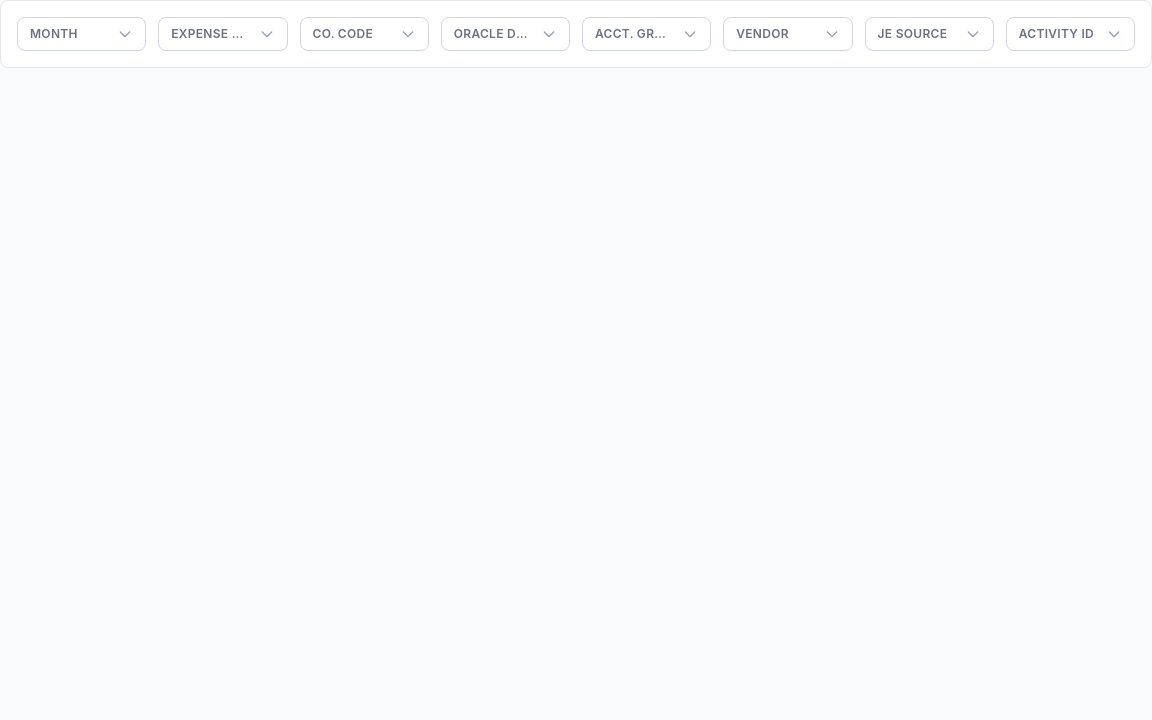
Test: FilterBar › closes dropdown when clicking outside
Click the button "Expense Type" at (223, 34), box [158, 17, 288, 51]
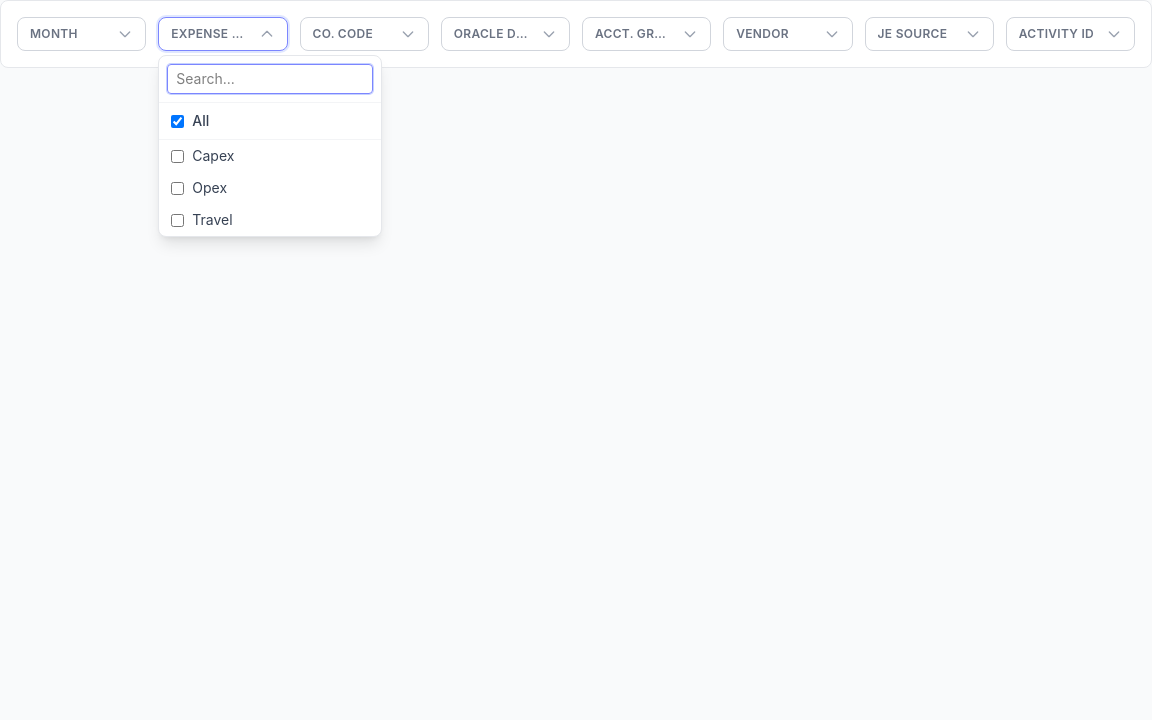
Check: the text "Capex" is shown, box [192, 146, 234, 166]
Click the element that starts with "Month" at (576, 360), box [0, 0, 1151, 719]
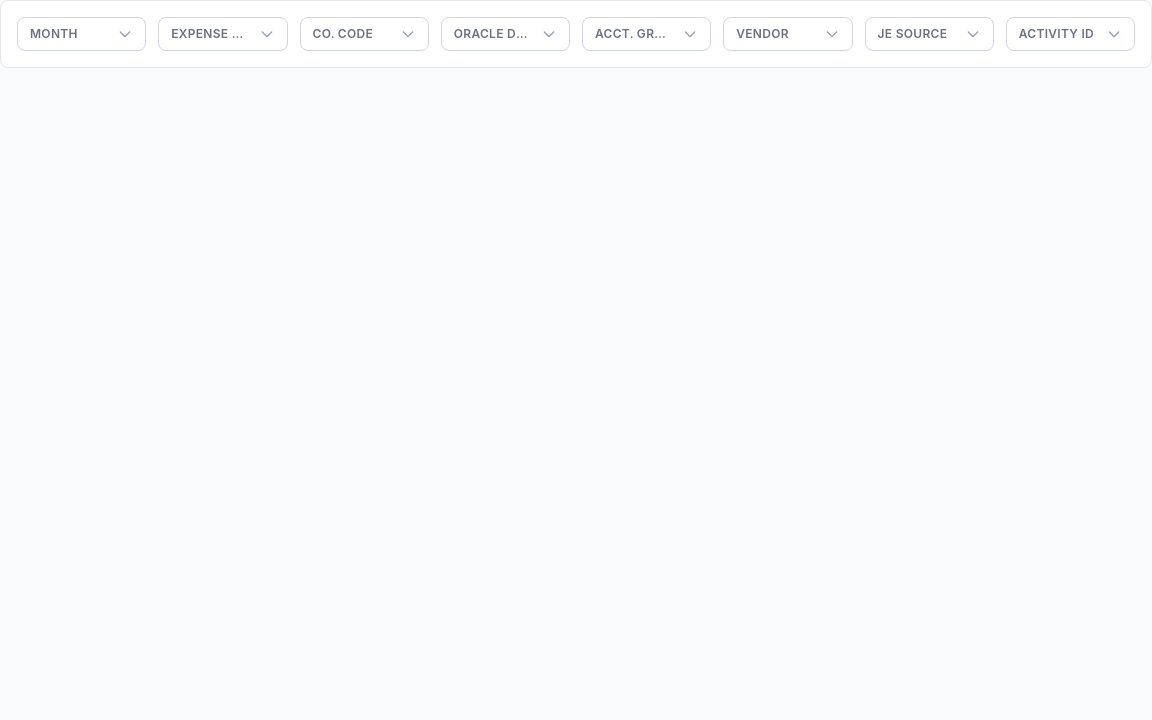
Check: the text "Capex" is gone
